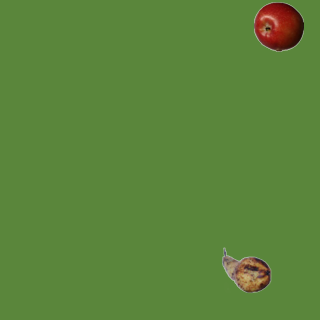Apple Braeburn: (253, 1, 303, 51)
Pear Abate: (221, 245, 271, 295)
